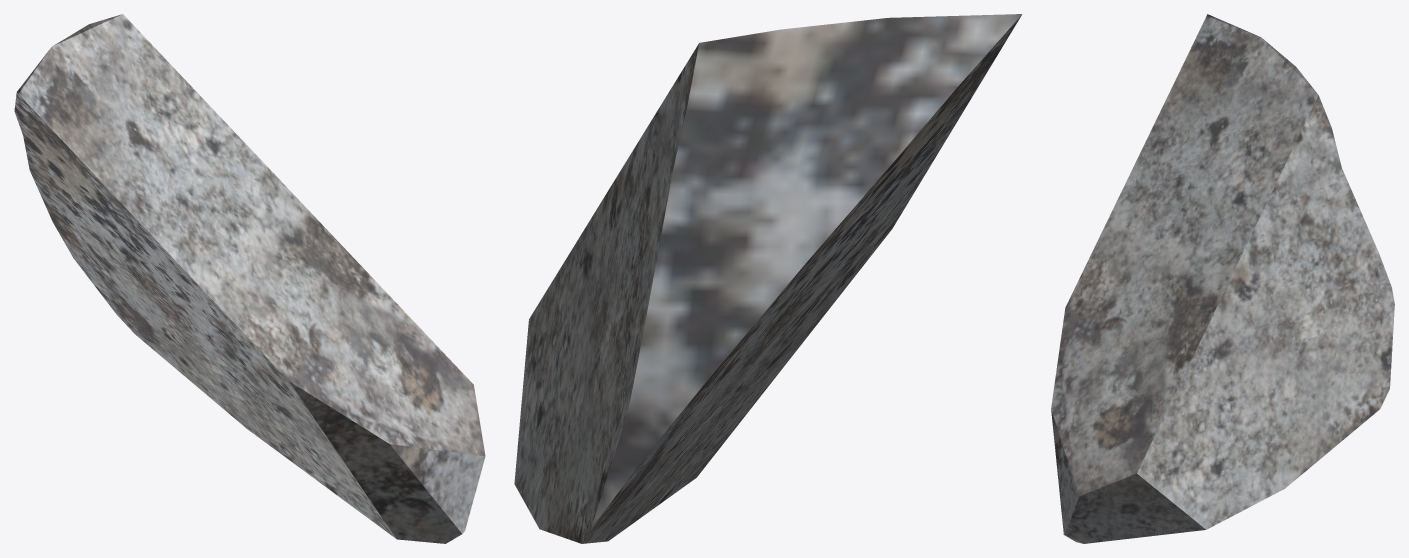
File: Asteroid_Medium_001_02_006_03_012.fbx
3 renders of one model, left to right at view 1: azimuth 30°, elevation 25°; view 2: azimuth 150°, elevation 25°; view 3: azimuth 270°, elevation 25°, orthographic. The views are drawn at different scales.
Visible parts, largest first — view 1: Asteroid_Medium_001_02_006_03_012; view 2: Asteroid_Medium_001_02_006_03_012; view 3: Asteroid_Medium_001_02_006_03_012.
Part boxes in pixels (box(x1,y1,x2,y2)): Asteroid_Medium_001_02_006_03_012: box(14, 14, 485, 543); Asteroid_Medium_001_02_006_03_012: box(514, 14, 1022, 543); Asteroid_Medium_001_02_006_03_012: box(1051, 14, 1394, 543).
Size of the model in its own units: 9.44 by 10.52 by 8.33.
